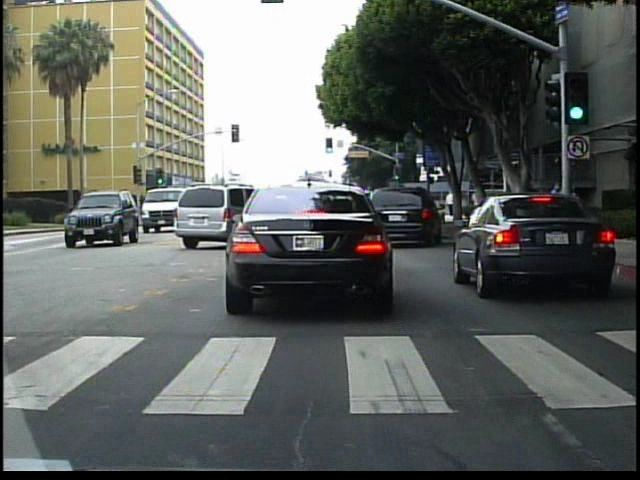person: (557, 175, 576, 235), (445, 187, 457, 219)
